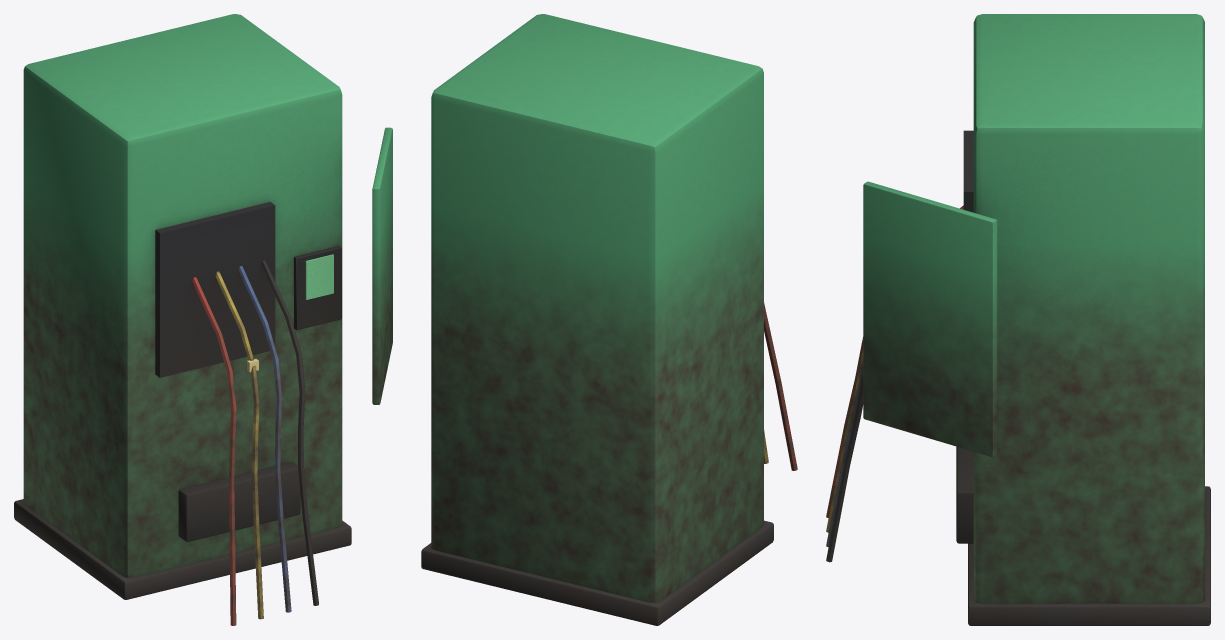
File: g67_pz_vend_broken.glb
The picture shows the model from 3 angles, left to right: view 1: azimuth 30°, elevation 25°; view 2: azimuth 150°, elevation 25°; view 3: azimuth 270°, elevation 25°; orthographic projection. The views are drawn at different scales.
Visible parts, largest first — view 1: g67_pz_vend_broken; view 2: g67_pz_vend_broken; view 3: g67_pz_vend_broken.
Part boxes in pixels (<box>): g67_pz_vend_broken: <box>14,14,392,625</box>; g67_pz_vend_broken: <box>421,14,797,625</box>; g67_pz_vend_broken: <box>826,14,1210,625</box>.
Size of the model in its own units: 1.21 by 1.9 by 1.33.
Materials: 1 (1 with a texture image).
